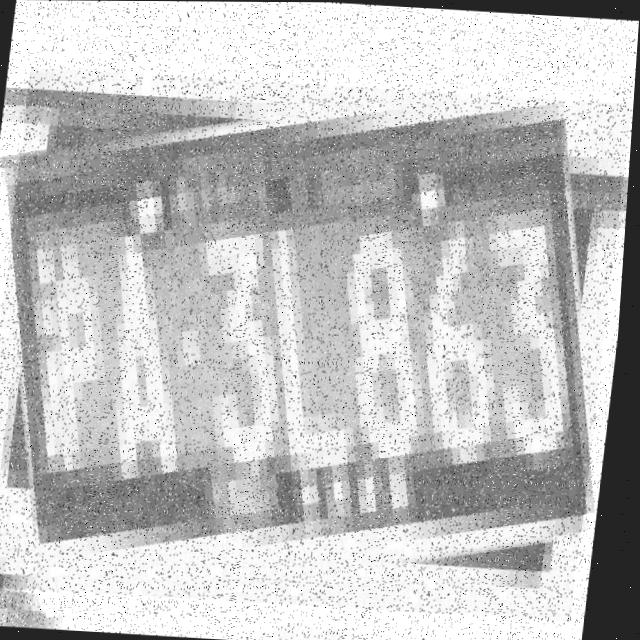LicensePlate: (0, 67, 635, 622)
